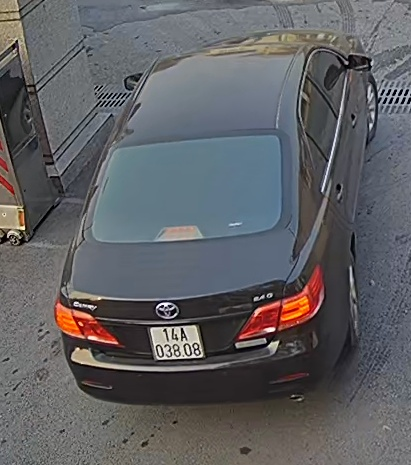vehicle plate: (144, 317, 211, 367)
